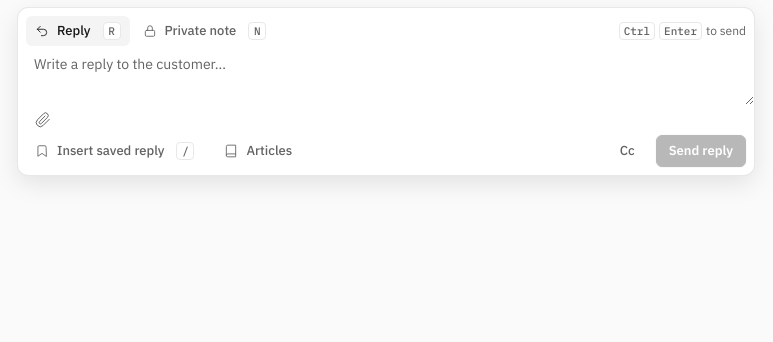
a refused Cc names exactly the addresses the trial would not copy
Step 1. Type "Hello all" into the text box named "Message body" → {"x": 386, "y": 76}, box [18,46,754,105]
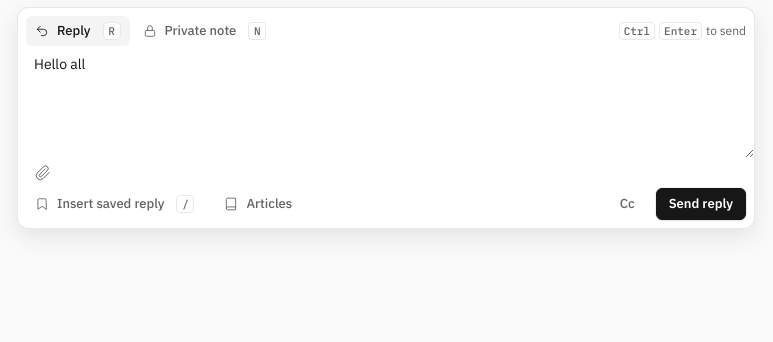
Step 2. Press Enter in the text box named "Message body", box [18,46,754,158]
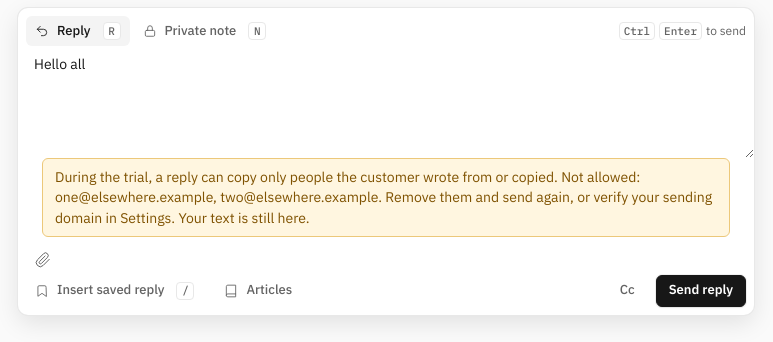
Check: the message does not show "wrote to you first", box [42,158,730,237]
Check: the message shows "not allowed: one@elsewhere.example, two@elsewhere.example", box [55,168,712,227]
